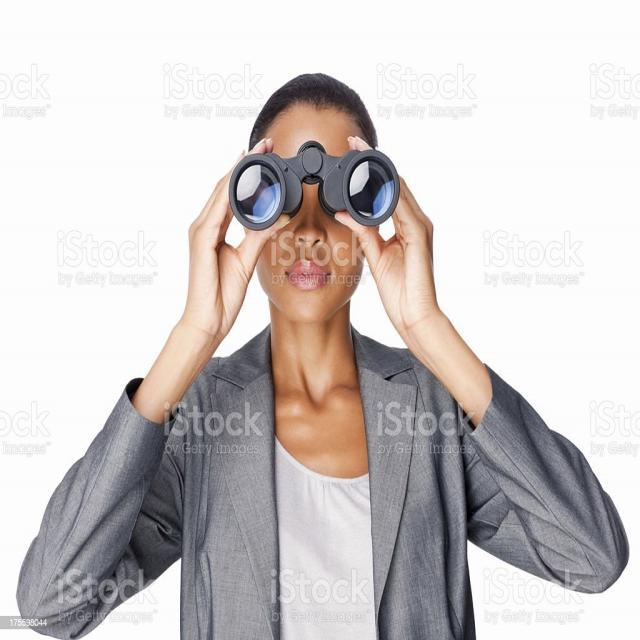Binocular: (215, 141, 415, 244)
